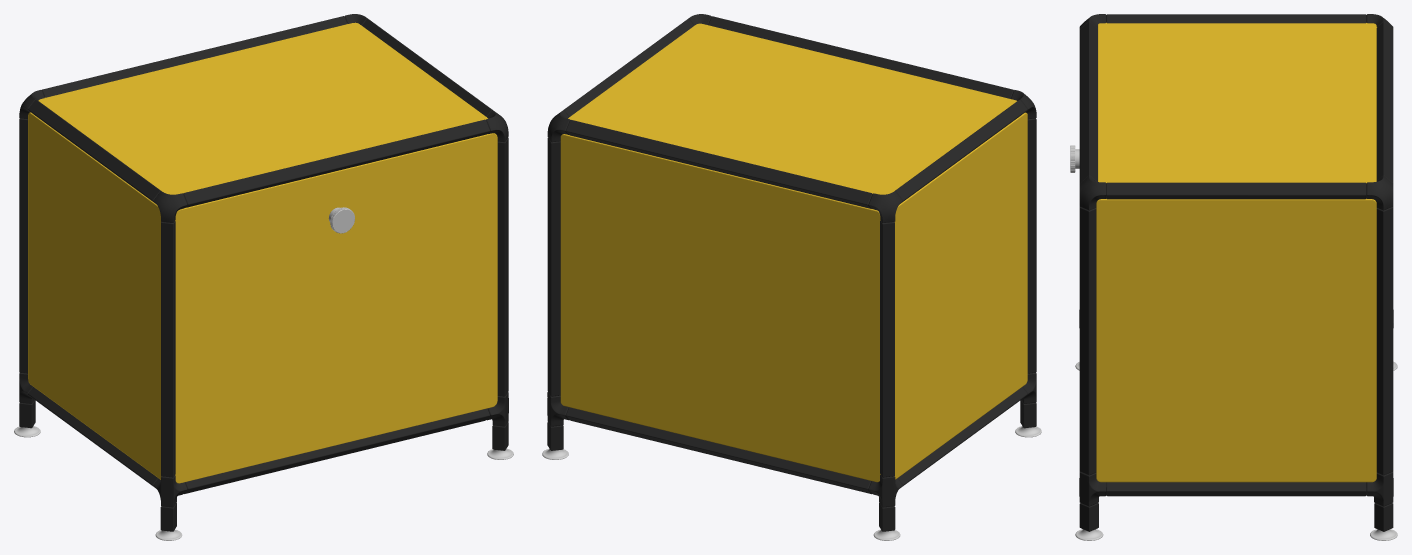
3 views of the same model, side by side, from view 1: azimuth 30°, elevation 25°; view 2: azimuth 150°, elevation 25°; view 3: azimuth 270°, elevation 25° (orthographic). The views are drawn at different scales.
Parts seen in each view (by area): view 1: 523x374x420; view 2: 523x374x420; view 3: 523x374x420.
Boxes of the visible parts, x1,y1,x2,y2 form: 523x374x420: (14,14,513,540); 523x374x420: (542,14,1041,540); 523x374x420: (1070,14,1397,540).
Size of the model in its own units: 0.6129 by 0.5594 by 0.4707.
